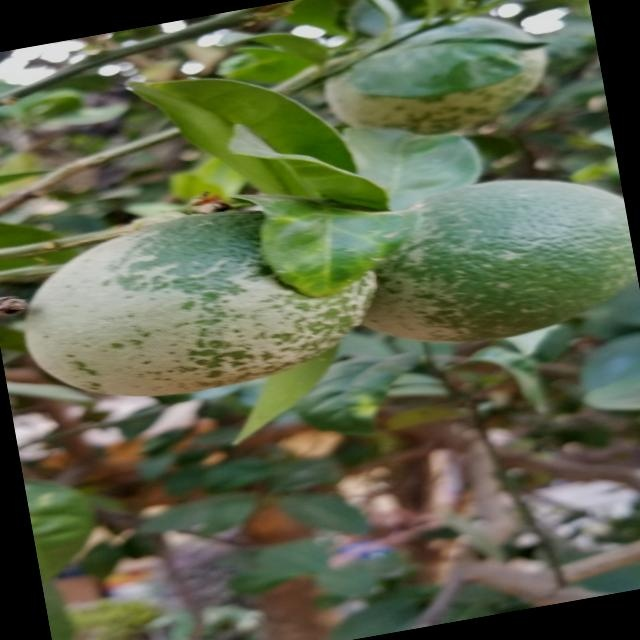agrume: (1, 172, 407, 424), (329, 153, 640, 375)
